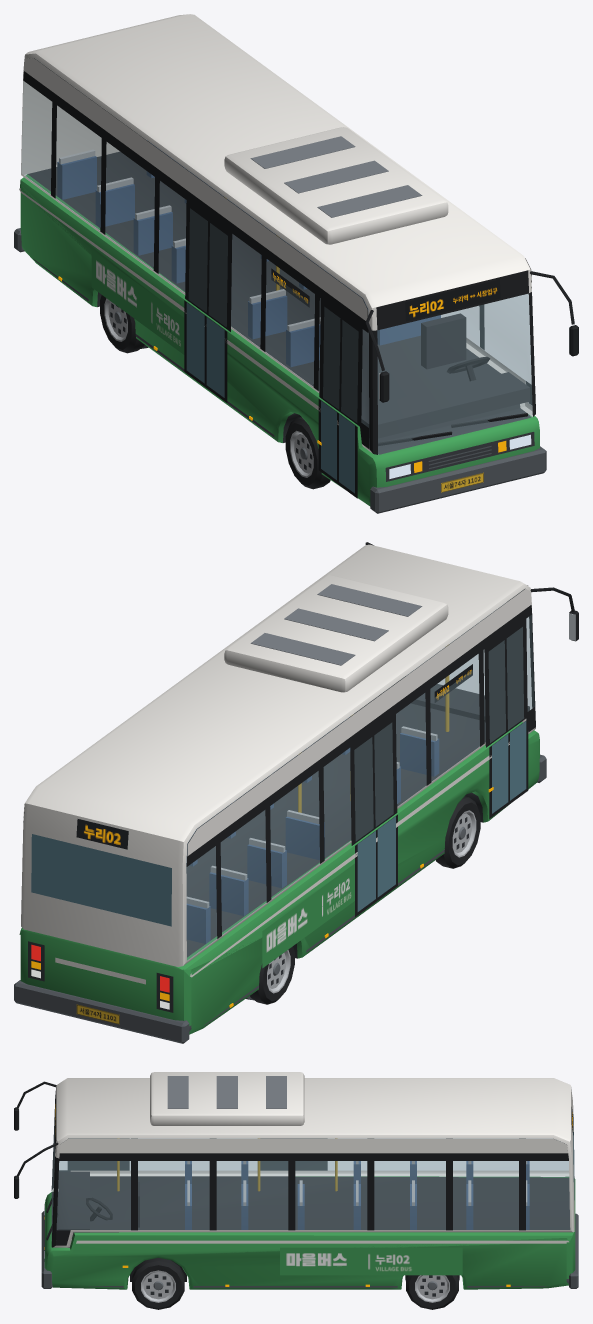
Rendered from SC_Veh_Bus_Village.gltf.
3 views of the same model, one above another, from view 1: azimuth 30°, elevation 25°; view 2: azimuth 150°, elevation 25°; view 3: azimuth 270°, elevation 25° (orthographic). The views are drawn at different scales.
Visible parts, largest first — view 1: SC_Veh_Bus_Village; view 2: SC_Veh_Bus_Village; view 3: SC_Veh_Bus_Village.
Part boxes in pixels (x1=…): SC_Veh_Bus_Village: x1=14, y1=14, x2=578, y2=513; SC_Veh_Bus_Village: x1=14, y1=542, x2=578, y2=1043; SC_Veh_Bus_Village: x1=14, y1=1072, x2=578, y2=1309.
Bounding box in the file's own units: 2.4 × 2.98 × 8.04.
Materials: 5 (5 with a texture image).
